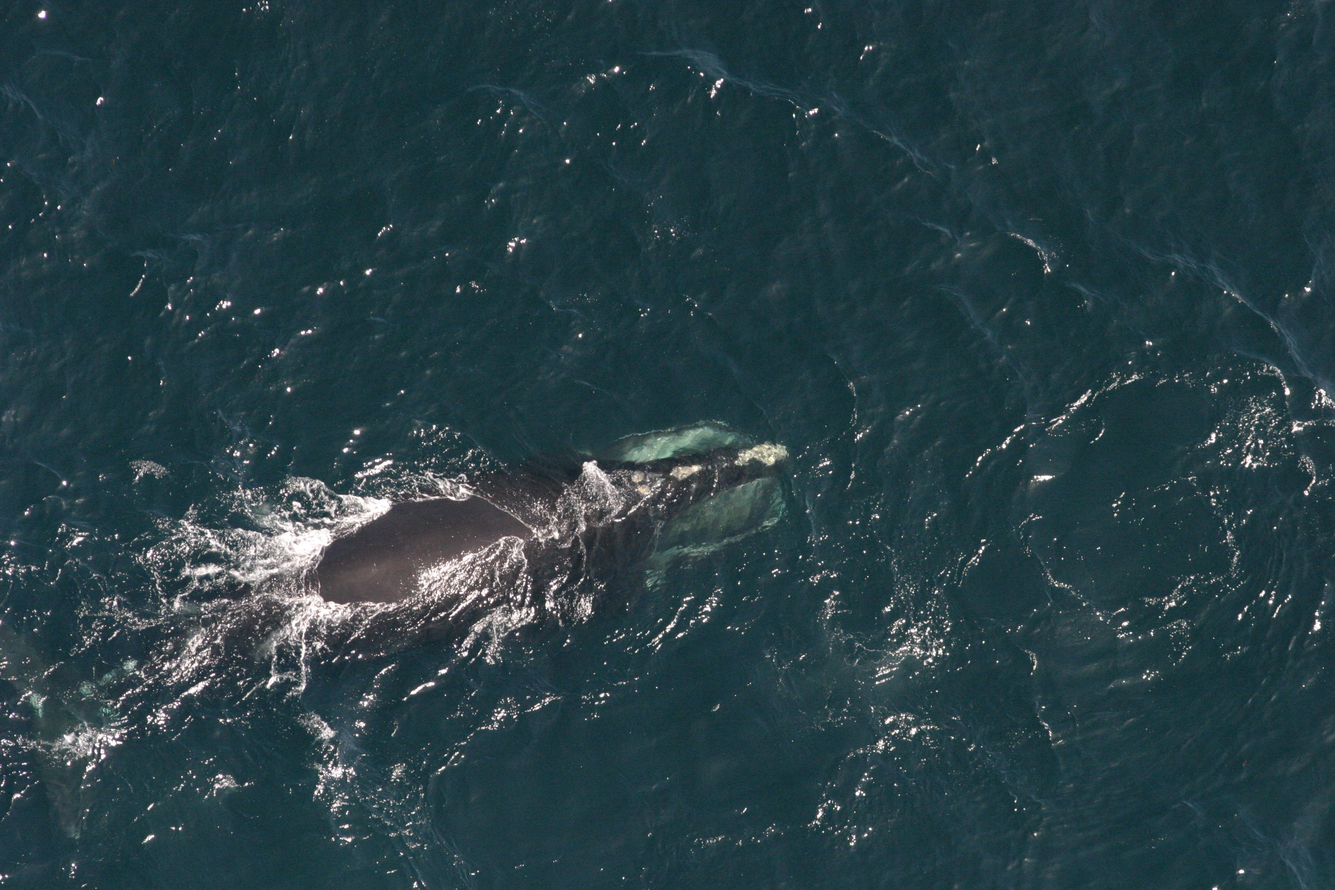whale: (1, 410, 797, 857)
